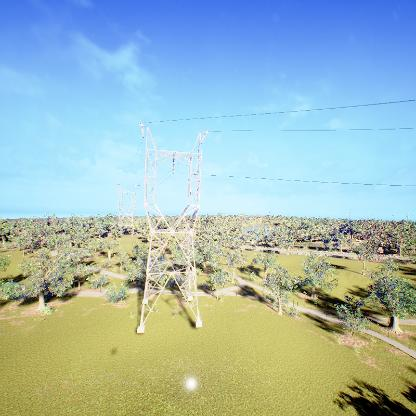tower: (134, 122, 211, 334), (114, 181, 139, 236)
